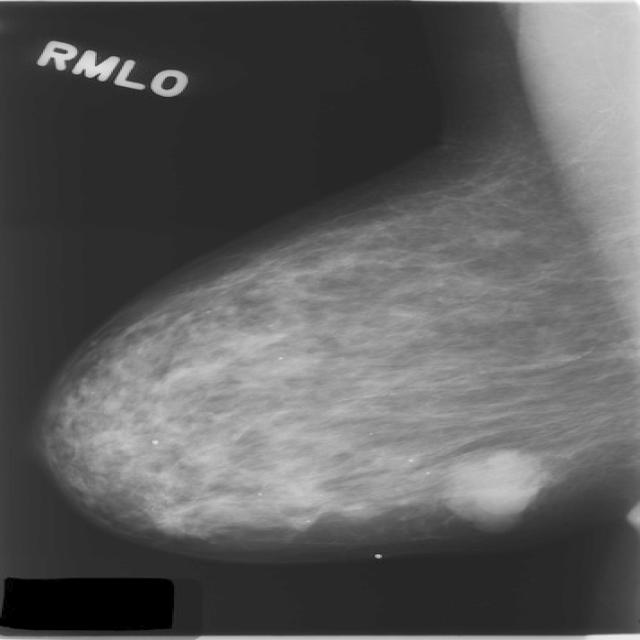tumour: (444, 447, 546, 530)
